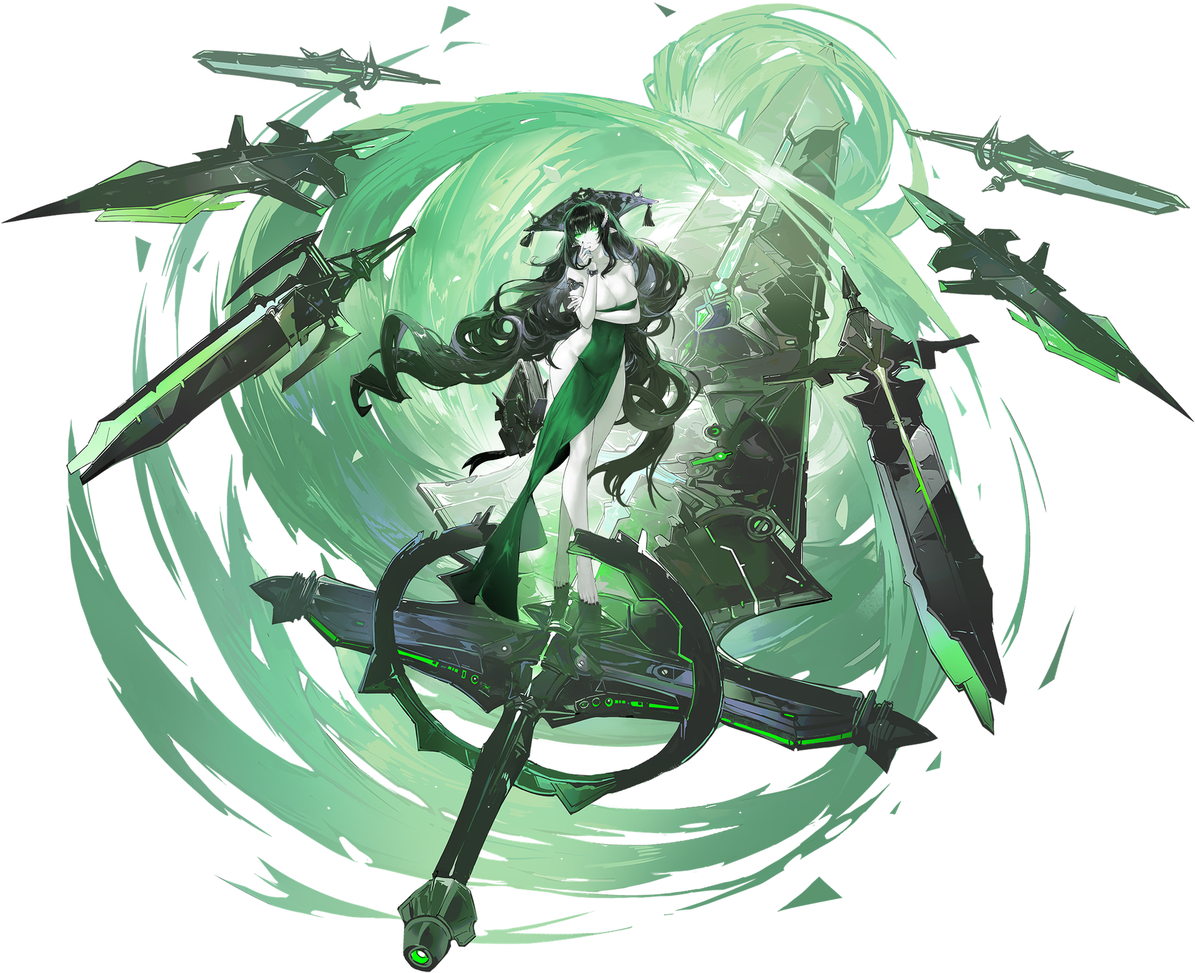person: (340, 158, 725, 856)
